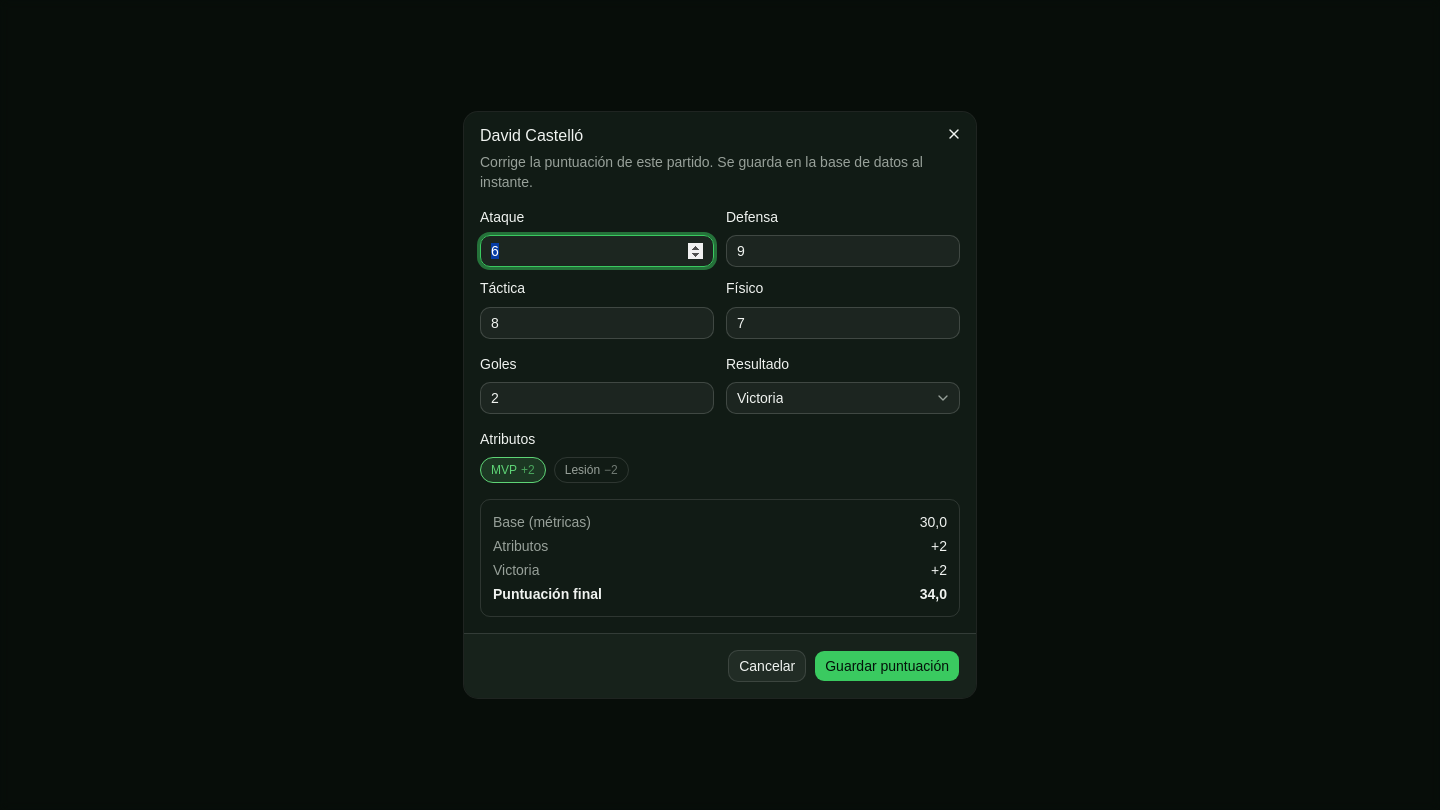
MatchScoreDialog › refuses to save a fractional goal count
Step 1. Replace the text in the number field with test id "score-goals" with "1.5" → x=597, y=398, box [480,382,714,414]
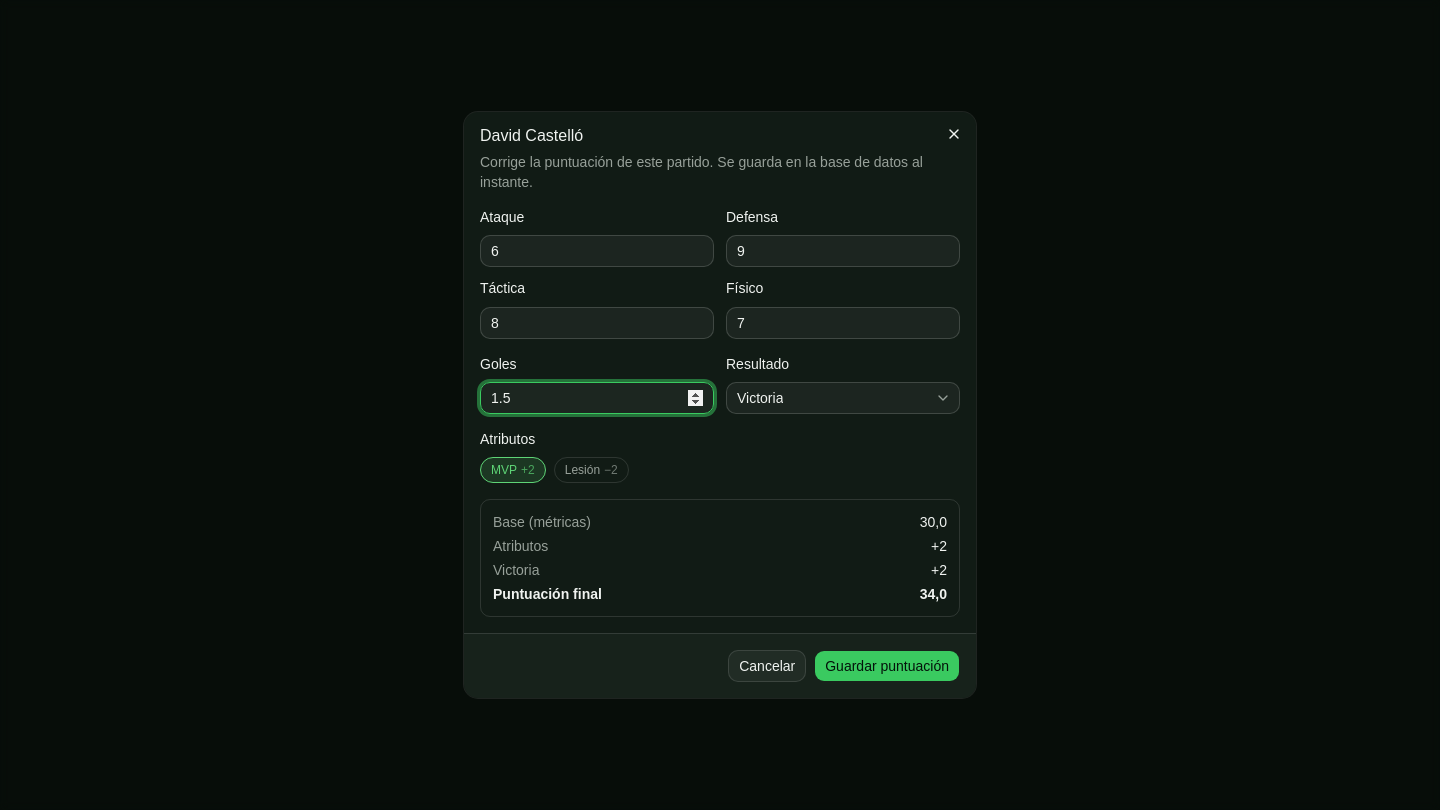
Step 2. Click the button with test id "score-submit" → x=887, y=666, box [814,650,960,682]
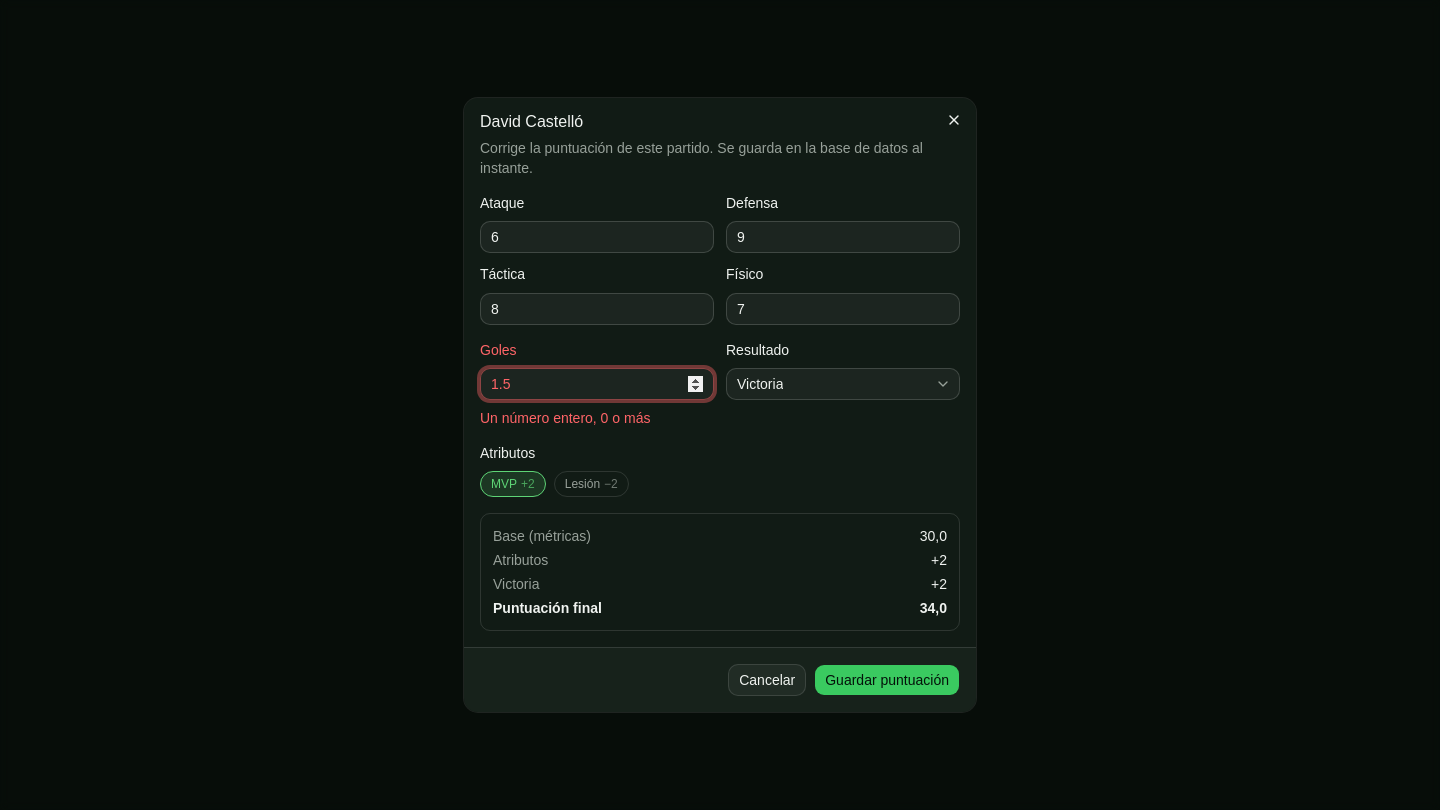
Now the text "Un número entero, 0 o más" is shown, box [480,410,650,426]
